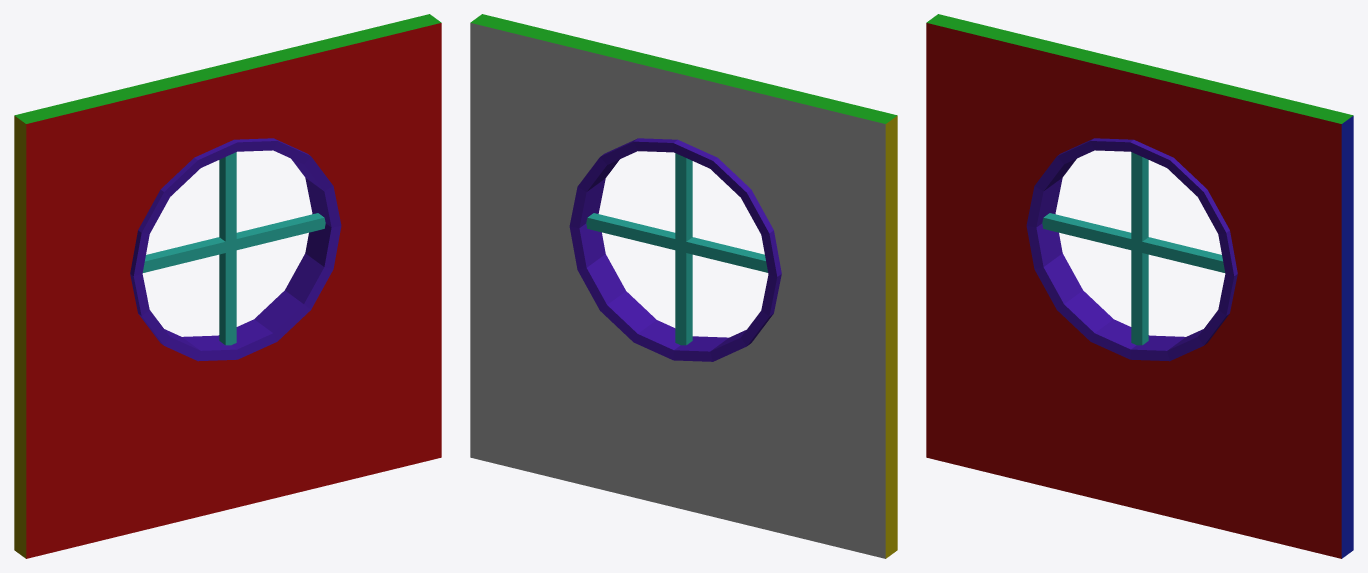
File: Wall_Window_08c.fbx
The picture shows the model from 3 angles, left to right: view 1: azimuth 30°, elevation 25°; view 2: azimuth 150°, elevation 25°; view 3: azimuth 330°, elevation 25°; orthographic projection.
Visible parts, largest first — view 1: Wall_Window_08c; view 2: Wall_Window_08c; view 3: Wall_Window_08c.
Boxes of the visible parts, left/top/right/bottom form: Wall_Window_08c: left=14, top=14, right=441, bottom=558; Wall_Window_08c: left=470, top=14, right=897, bottom=558; Wall_Window_08c: left=926, top=14, right=1353, bottom=558.
Size of the model in its own units: 3 by 0.2525 by 3.
